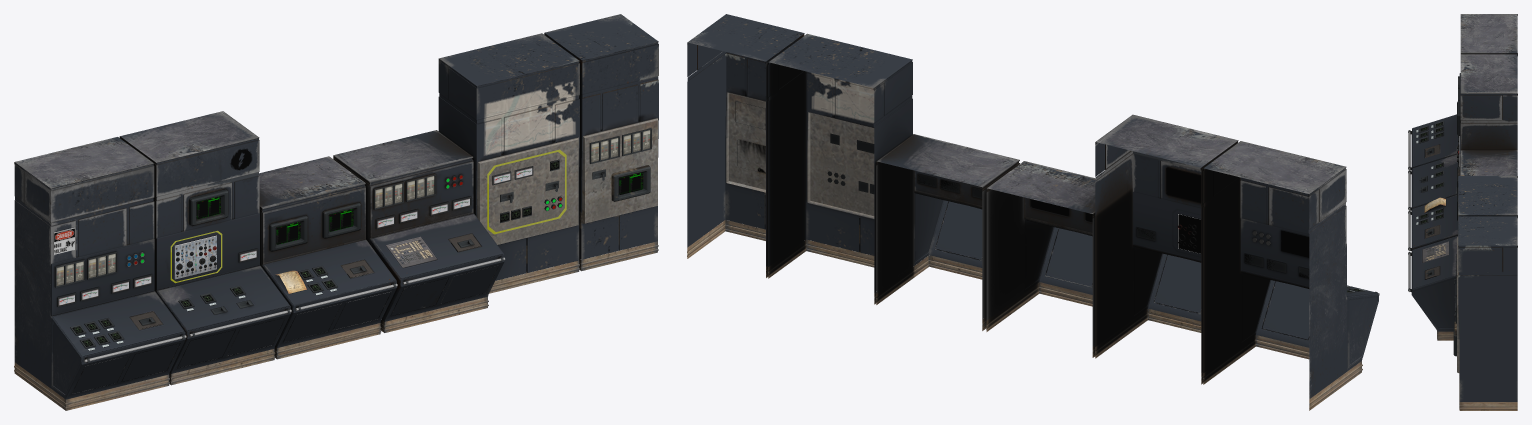
The model's file is electronic_panel.glb.
3 renders of one model, left to right at view 1: azimuth 30°, elevation 25°; view 2: azimuth 150°, elevation 25°; view 3: azimuth 270°, elevation 25°, orthographic. The views are drawn at different scales.
Parts seen in each view (by area): view 1: Object_16, Object_17, Object_6, Object_15, Object_9, Object_14, Object_5, Object_13, Object_8, Object_11; view 2: Object_16, Object_17; view 3: Object_16, Object_17, Object_15, Object_11, Object_13, Object_12.
Part boxes in pixels (<box>): Object_16: <box>14,14,658,410</box>; Object_17: <box>70,118,657,348</box>; Object_6: <box>56,130,650,285</box>; Object_15: <box>84,174,562,362</box>; Object_9: <box>196,172,643,244</box>; Object_14: <box>58,167,532,305</box>; Object_5: <box>175,236,216,279</box>; Object_13: <box>72,161,558,346</box>; Object_8: <box>170,149,566,283</box>; Object_11: <box>386,236,437,267</box>; Object_16: <box>687,14,1378,410</box>; Object_17: <box>726,92,1364,293</box>; Object_16: <box>1408,14,1517,410</box>; Object_17: <box>1419,121,1459,373</box>; Object_15: <box>1408,130,1459,317</box>; Object_11: <box>1422,241,1448,262</box>; Object_13: <box>1420,122,1442,223</box>; Object_12: <box>1424,197,1445,212</box>.
Bounding box in the file's own units: 24.59 × 8.18 × 4.92.
Materials: 14 (12 with a texture image).
